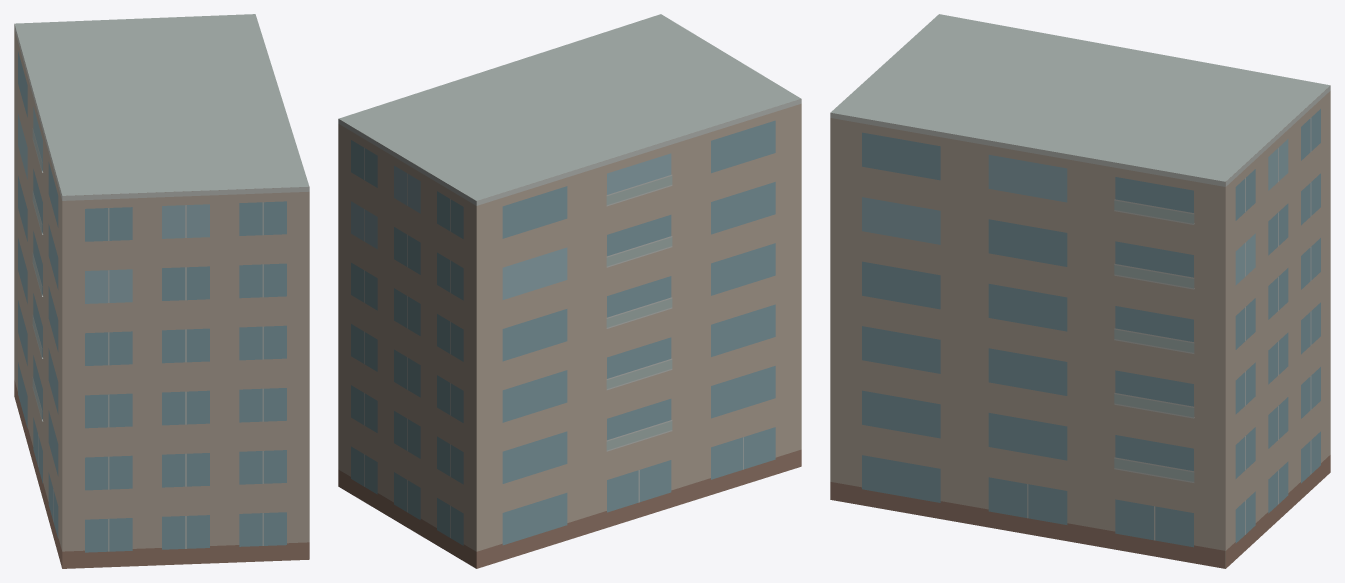
File: survey-upis-32670542.glb
The picture shows the model from 3 angles, left to right: view 1: azimuth 30°, elevation 25°; view 2: azimuth 150°, elevation 25°; view 3: azimuth 270°, elevation 25°; orthographic projection. The views are drawn at different scales.
Visible parts, largest first — view 1: survey-upis-32670542.tmp; view 2: survey-upis-32670542.tmp; view 3: survey-upis-32670542.tmp.
Boxes of the visible parts, left/top/right/bottom form: survey-upis-32670542.tmp: left=14, top=14, right=309, bottom=568; survey-upis-32670542.tmp: left=338, top=14, right=801, bottom=568; survey-upis-32670542.tmp: left=830, top=14, right=1330, bottom=568.
Bounding box in the file's own units: 16.84 × 18.1 × 21.21.
